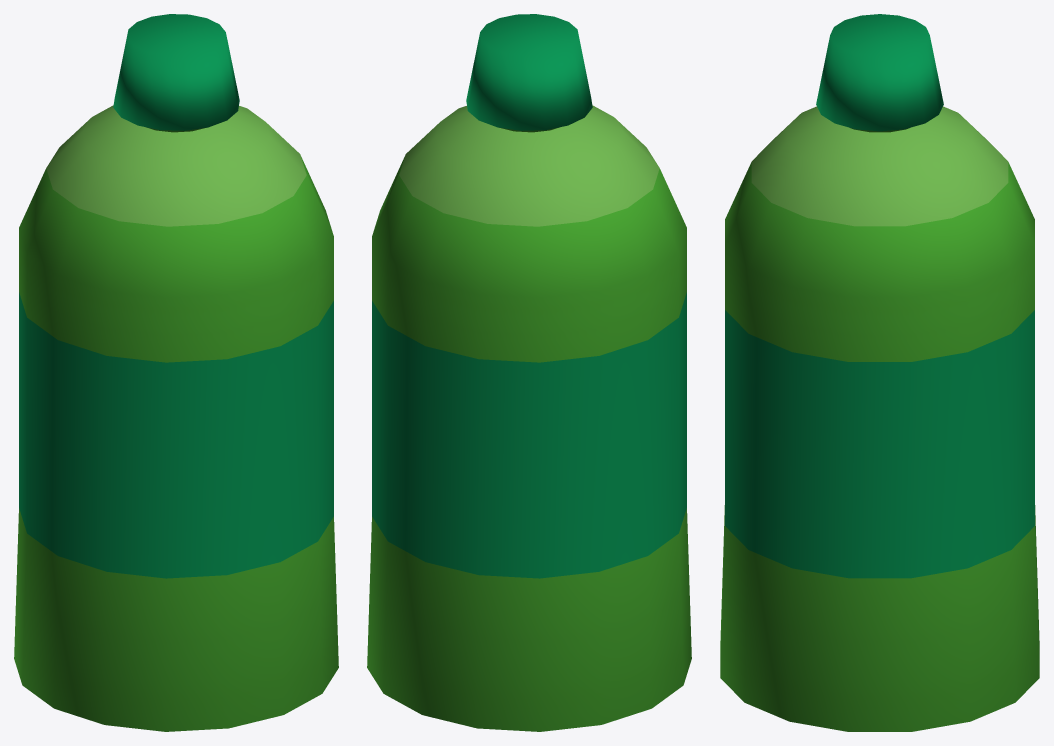
The model's file is GreenBottle.fbx.
The picture shows the model from 3 angles, left to right: view 1: azimuth 30°, elevation 25°; view 2: azimuth 150°, elevation 25°; view 3: azimuth 270°, elevation 25°; orthographic projection.
Parts seen in each view (by area): view 1: GreenBottle; view 2: GreenBottle; view 3: GreenBottle.
Boxes of the visible parts, x1,y1,x2,y2 form: GreenBottle: (14, 14, 338, 731); GreenBottle: (367, 14, 691, 731); GreenBottle: (720, 14, 1039, 731).
Bounding box in the file's own units: 18.95 × 41.17 × 18.95.
Materials: 1 (1 with a texture image).
